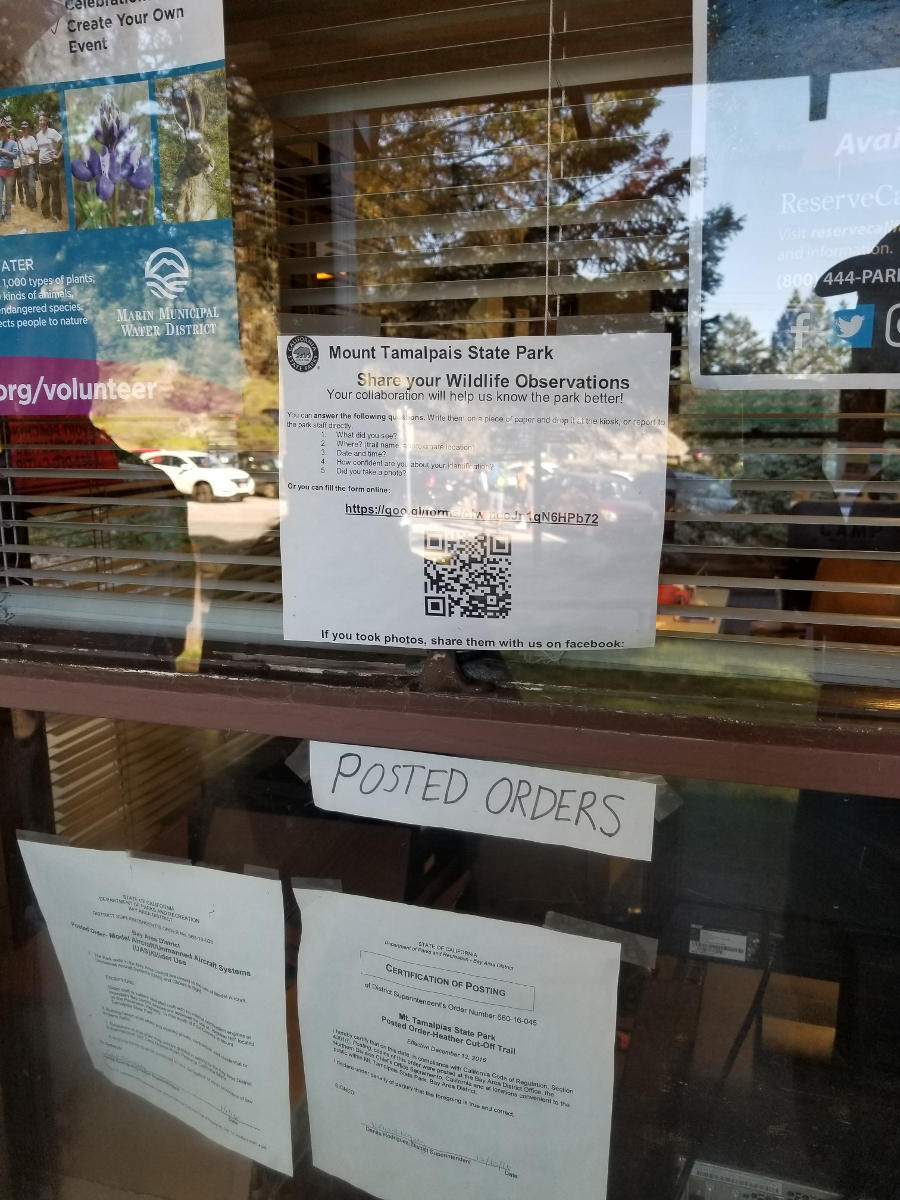QR_CODE: (393, 503, 534, 638)
